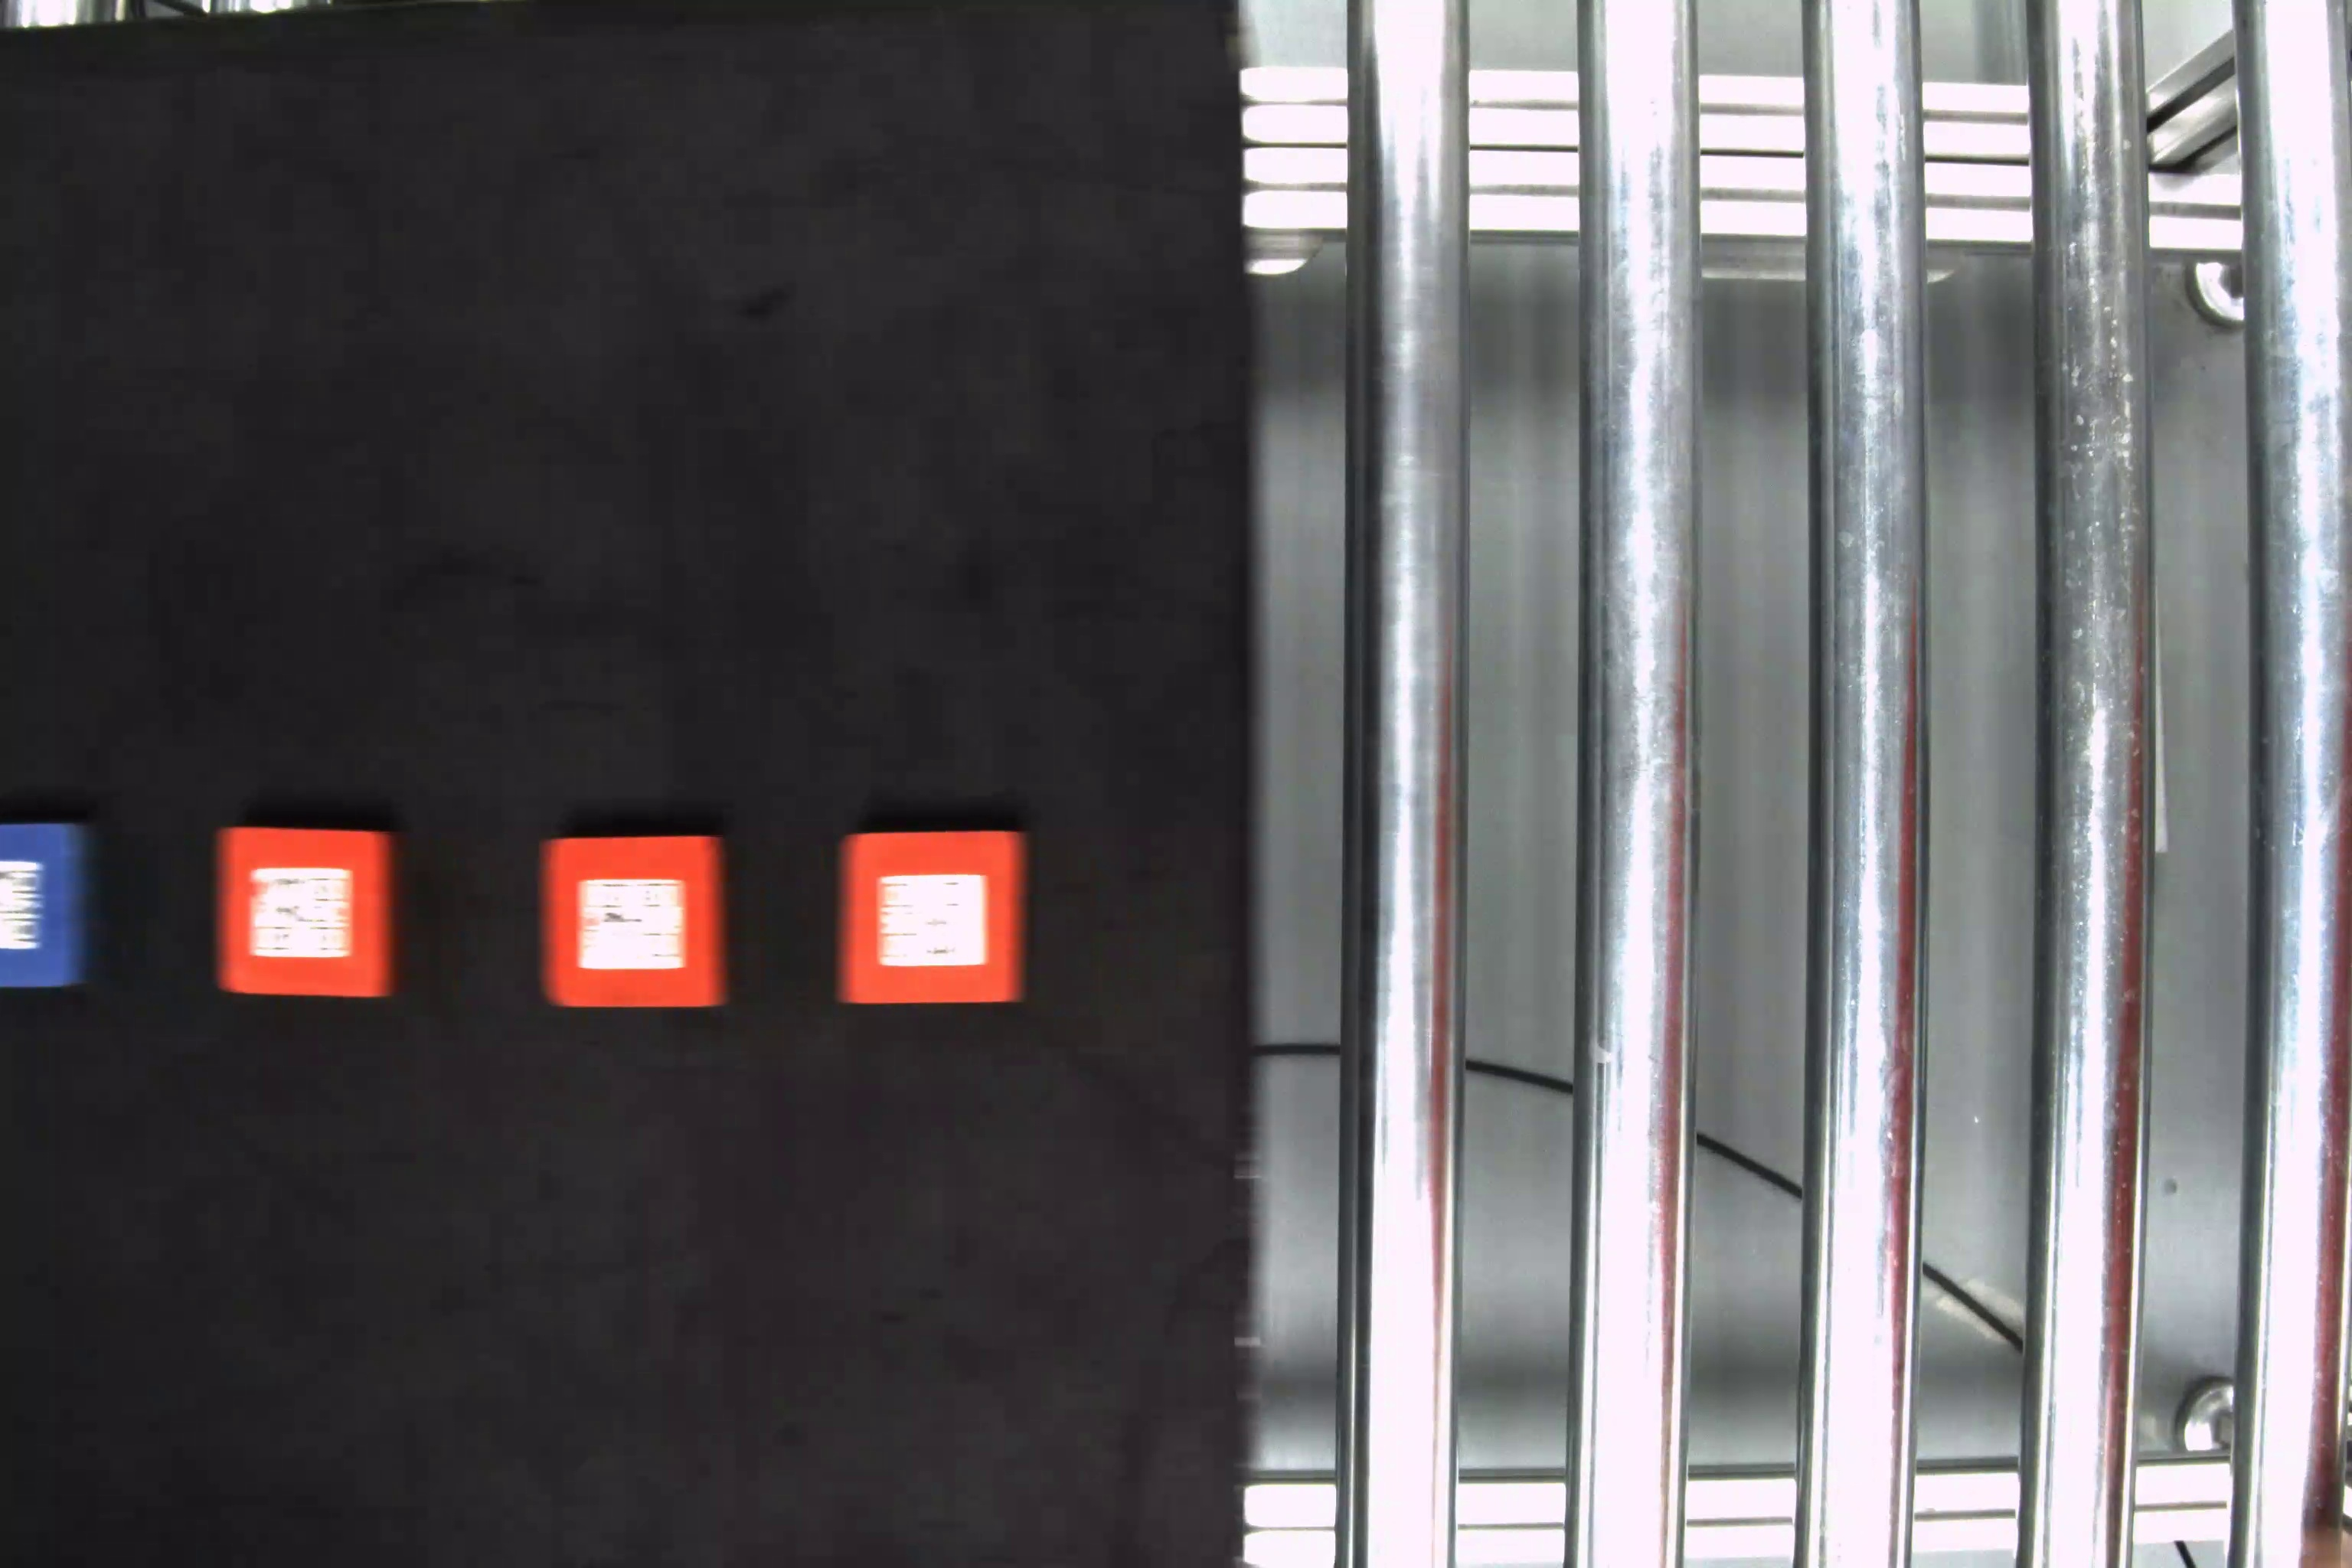wood: (833, 821, 1034, 1008), (208, 826, 402, 1003), (544, 831, 730, 1011), (5, 821, 87, 1003)
